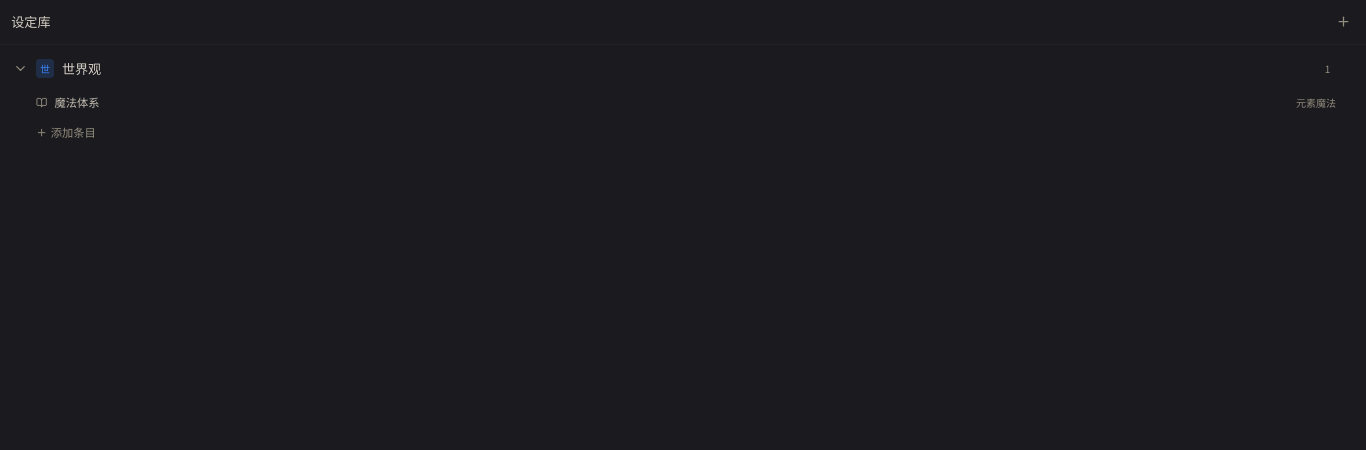
Test: SettingsPanel › 点击设定条目进入编辑模式
Step 1. Click the text "魔法体系" → click(77, 102), box [54,94,99,110]
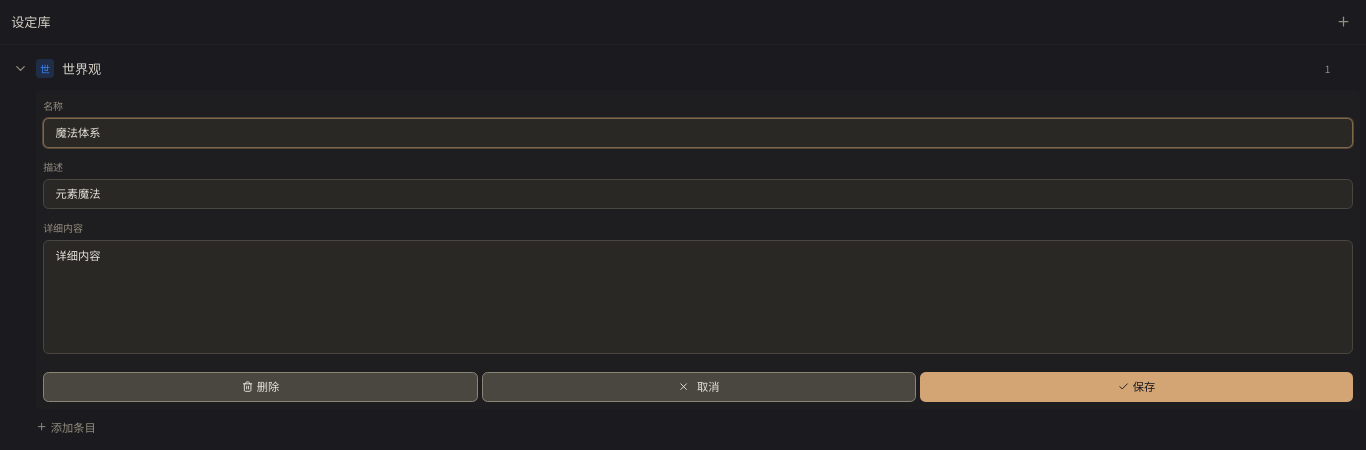
Expected: the field showing "魔法体系" is shown, [43,118,1353,148]
Expected: the field showing "元素魔法" is shown, [43,179,1353,209]
Expected: the text box showing "详细内容" is shown, [43,240,1353,354]
